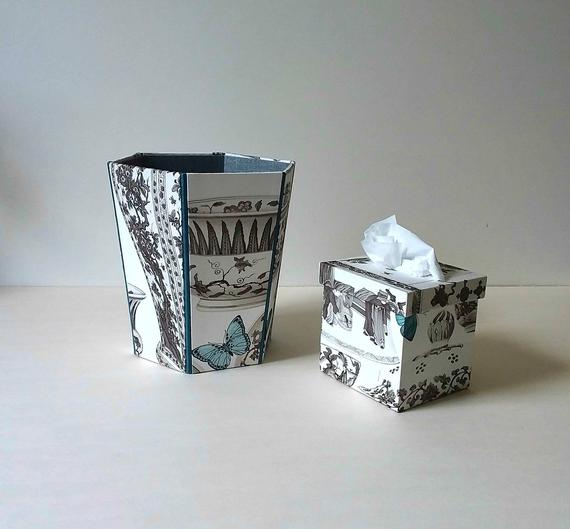Tissue: (360, 215, 443, 286)
